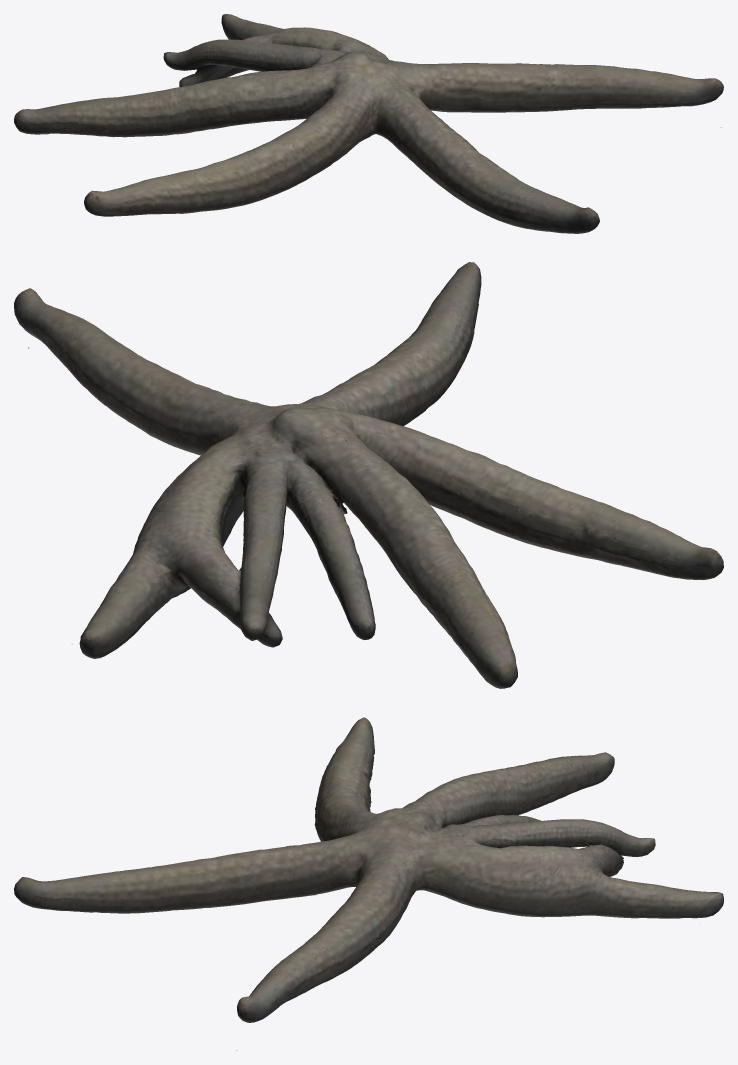
Rendered from smithsonian-linckia-laevigata.glb.
3 renders of one model, top to bottom at view 1: azimuth 30°, elevation 25°; view 2: azimuth 150°, elevation 25°; view 3: azimuth 270°, elevation 25°, orthographic. The views are drawn at different scales.
Bounding box in the file's own units: 160 × 23.48 × 157.
Materials: 1 (1 with a texture image).
